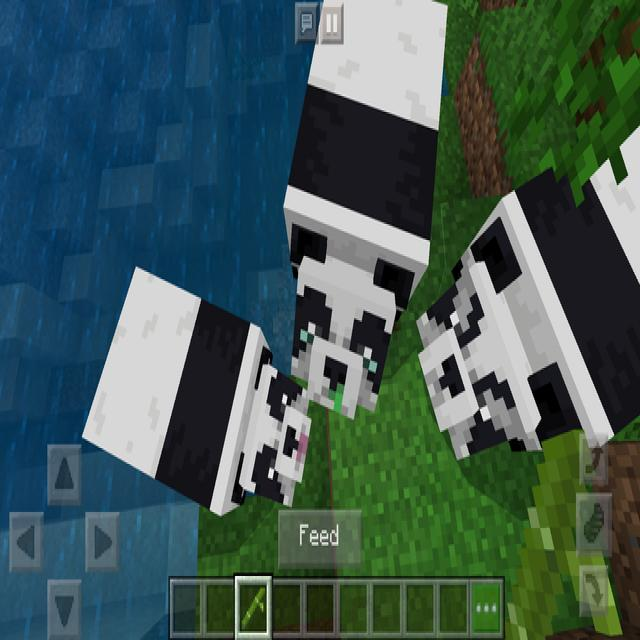Panda: (413, 111, 639, 472), (282, 0, 449, 416), (79, 265, 310, 517)
